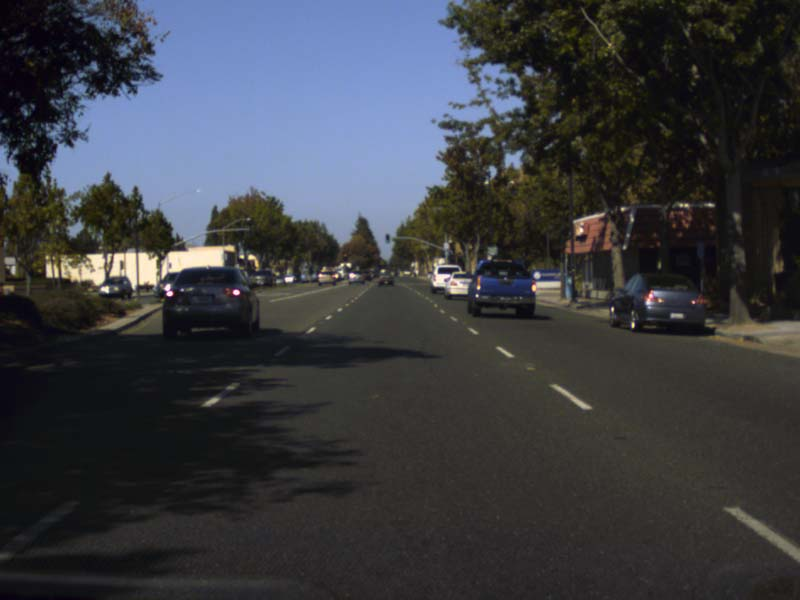Green: (385, 234, 389, 243)
Red: (343, 253, 347, 260)
